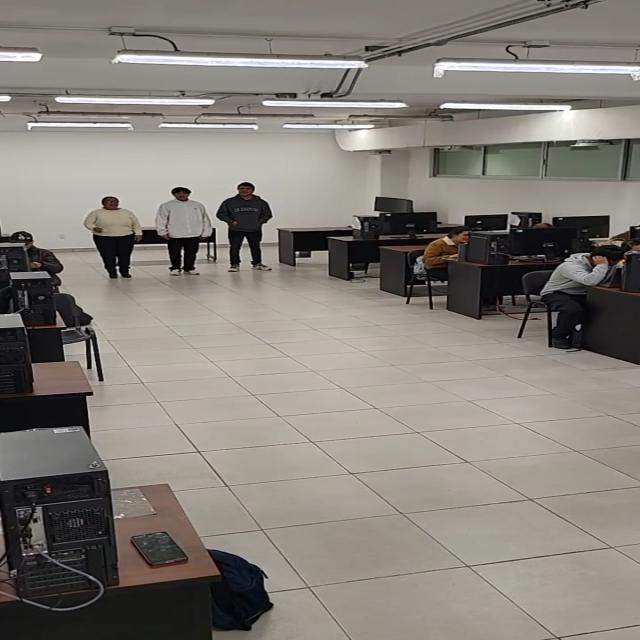Persona: (218, 182, 272, 272), (153, 187, 206, 277), (86, 195, 140, 279)
